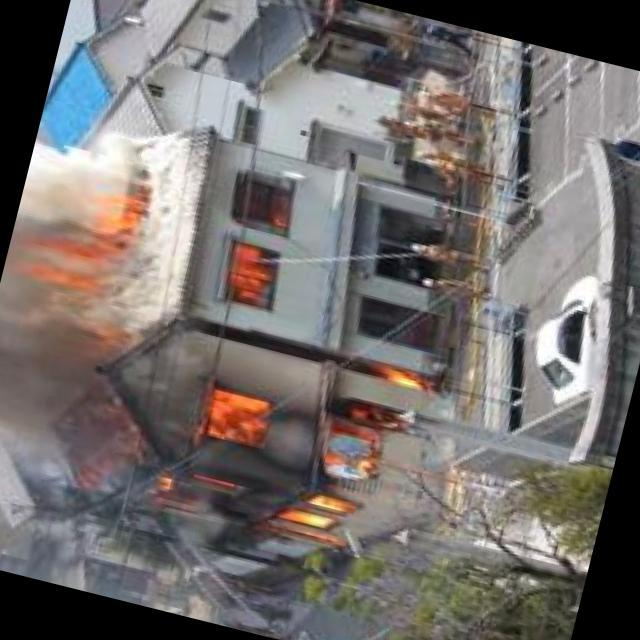Fire: (137, 312, 434, 574), (37, 155, 154, 297), (215, 202, 291, 308)
